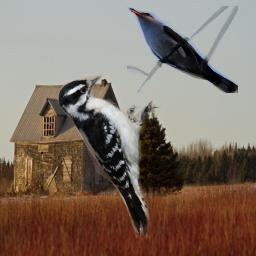Cuckoo: (127, 6, 238, 93)
Woodpecker: (57, 75, 161, 238)
